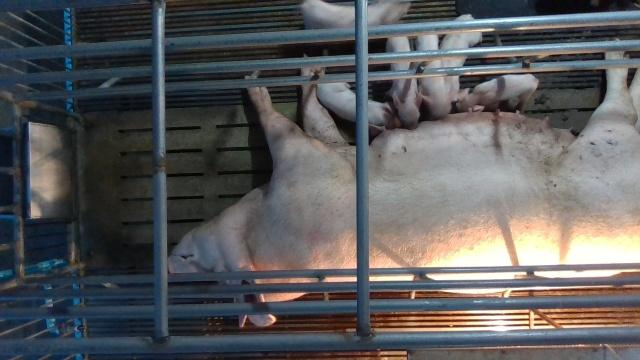piglet: (316, 82, 402, 132), (440, 12, 485, 103), (385, 33, 422, 131), (455, 72, 538, 115), (417, 35, 453, 120), (301, 2, 412, 28)
sow-sleep-lactate: (168, 37, 640, 329)
